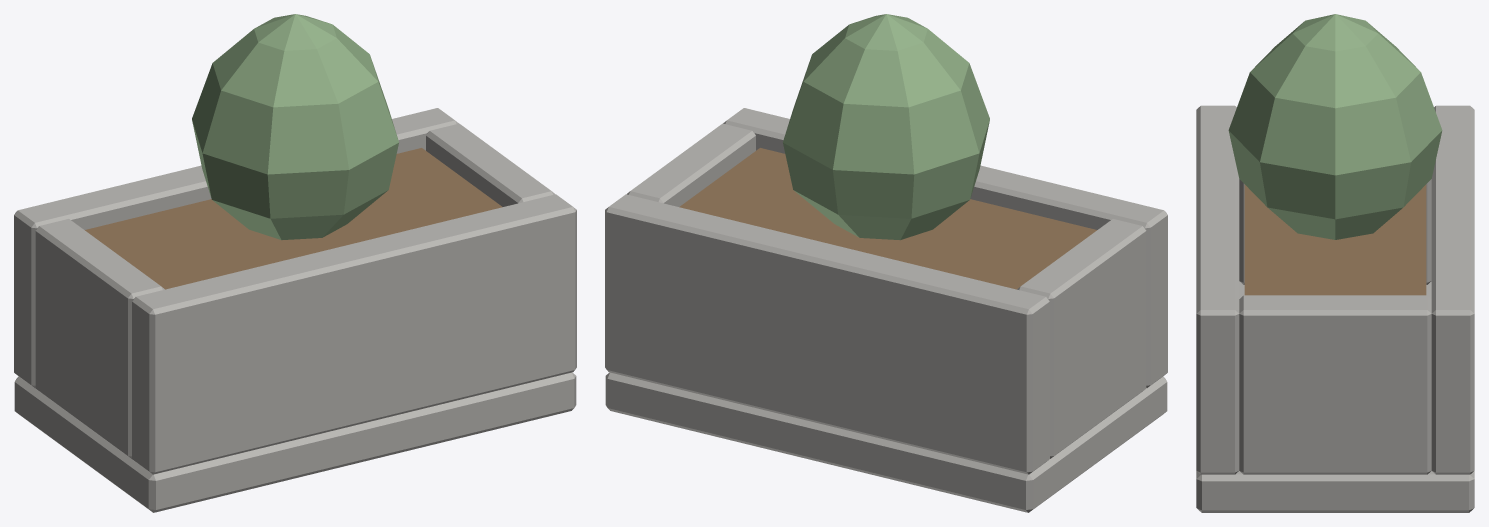
File: prop-planter-stone.fbx
The picture shows the model from 3 angles, left to right: view 1: azimuth 30°, elevation 25°; view 2: azimuth 150°, elevation 25°; view 3: azimuth 270°, elevation 25°; orthographic projection.
Visible parts, largest first — view 1: prop-planter-stone; view 2: prop-planter-stone; view 3: prop-planter-stone.
Boxes of the visible parts, x1,y1,x2,y2 form: prop-planter-stone: (14, 14, 576, 512); prop-planter-stone: (605, 14, 1167, 512); prop-planter-stone: (1196, 14, 1474, 512).
Size of the model in its own units: 0.92 by 0.82 by 0.52.
